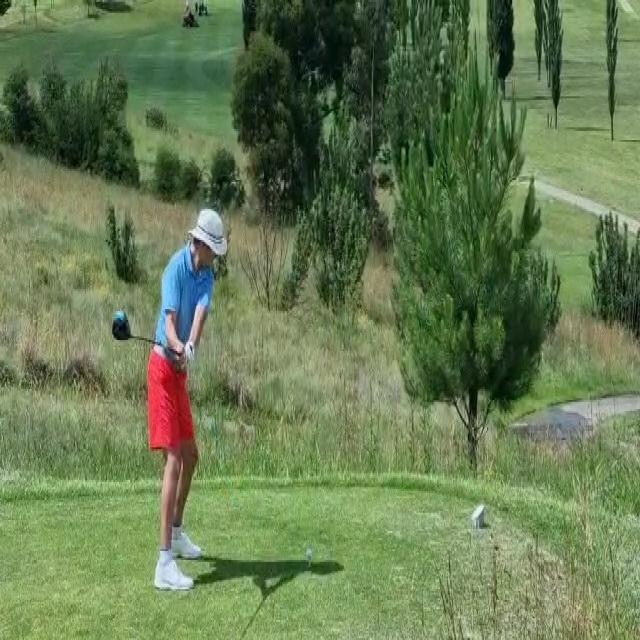club head: (111, 307, 133, 342)
